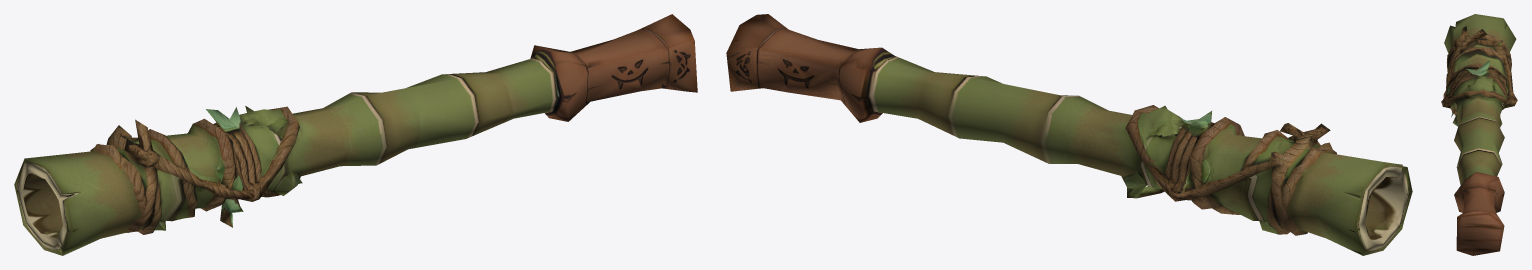
File: Sarbacane.fbx
The picture shows the model from 3 angles, left to right: view 1: azimuth 30°, elevation 25°; view 2: azimuth 150°, elevation 25°; view 3: azimuth 270°, elevation 25°; orthographic projection. The views are drawn at different scales.
Visible parts, largest first — view 1: tripo_node_526ec857; view 2: tripo_node_526ec857; view 3: tripo_node_526ec857.
Part boxes in pixels (box(x1,y1,x2,y2)): tripo_node_526ec857: box(14, 14, 697, 255); tripo_node_526ec857: box(726, 14, 1412, 255); tripo_node_526ec857: box(1441, 14, 1517, 255).
Bounding box in the file's own units: 0.9803 × 0.1617 × 0.1632.
